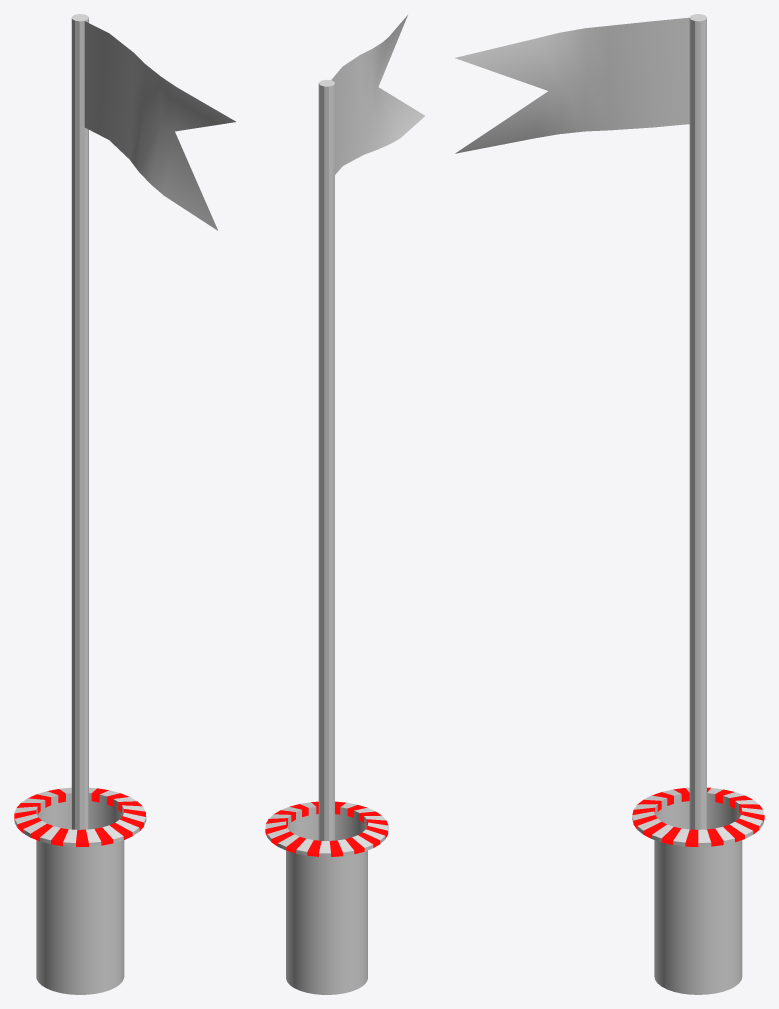
The model's file is FlagPost.fbx.
The picture shows the model from 3 angles, left to right: view 1: azimuth 30°, elevation 25°; view 2: azimuth 150°, elevation 25°; view 3: azimuth 270°, elevation 25°; orthographic projection. The views are drawn at different scales.
Parts seen in each view (by area): view 1: Flag, Red; view 2: Flag, Red; view 3: Flag, Red.
Part boxes in pixels (x1,y1,x2,y2): Flag: (71,14,235,829); Red: (14,787,146,994); Flag: (318,15,424,840); Red: (265,801,388,994); Flag: (455,14,706,829); Red: (632,787,764,994).
Size of the model in its own units: 45 by 360 by 105.
